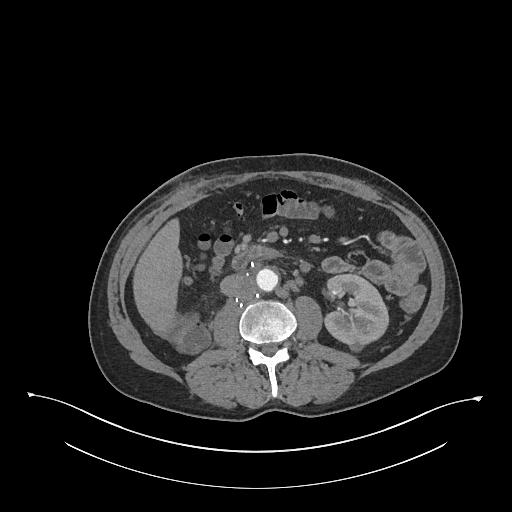Lesion: (349, 337, 365, 355)
